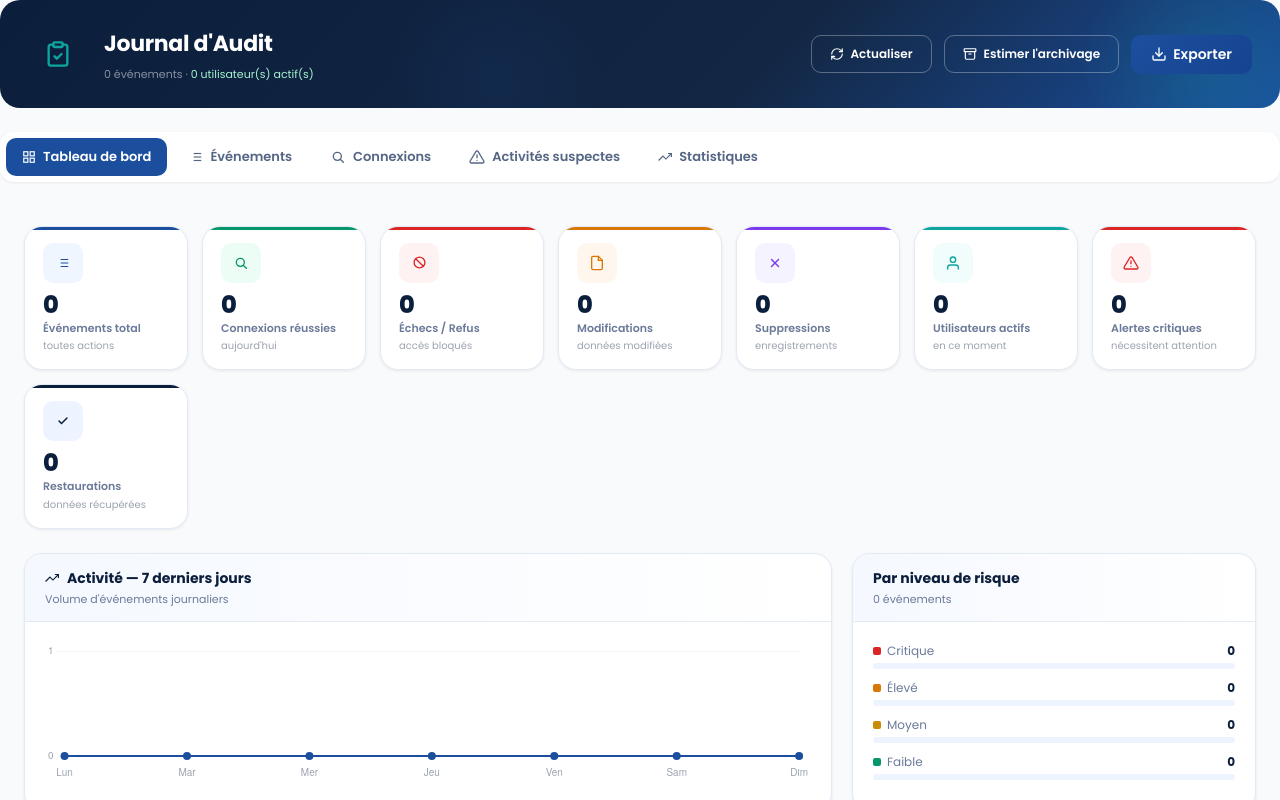
Test case: superadmin voit le bouton "Sauvegarder" actif
Step 1. Click the button "Statistiques" → (708, 157), box [642,138,774,176]
(page scrolled)
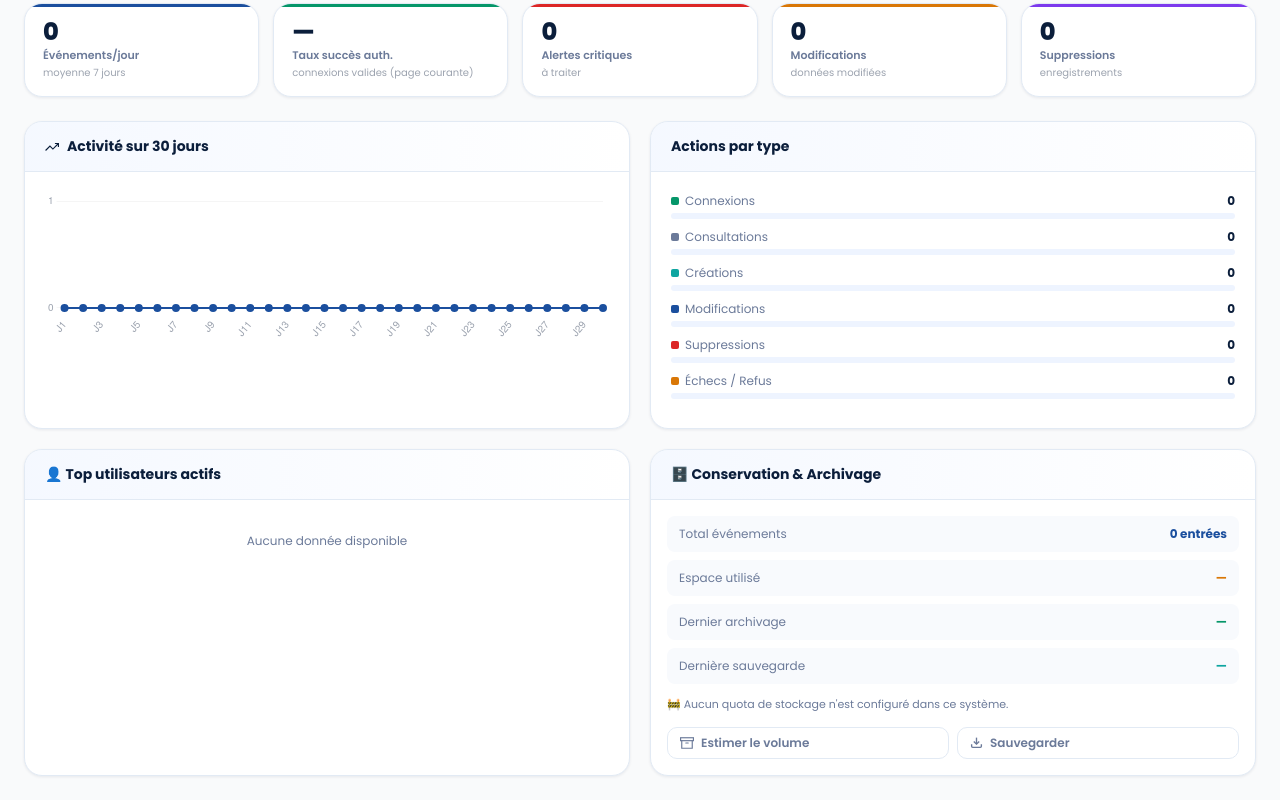
Result: the button "Sauvegarder" is enabled at [957,726,1239,758]
